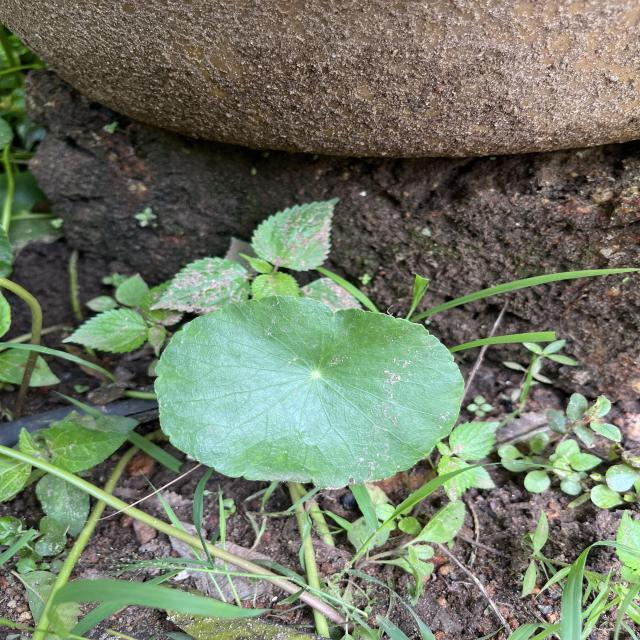Bacopa monnieri: (150, 291, 470, 492)
